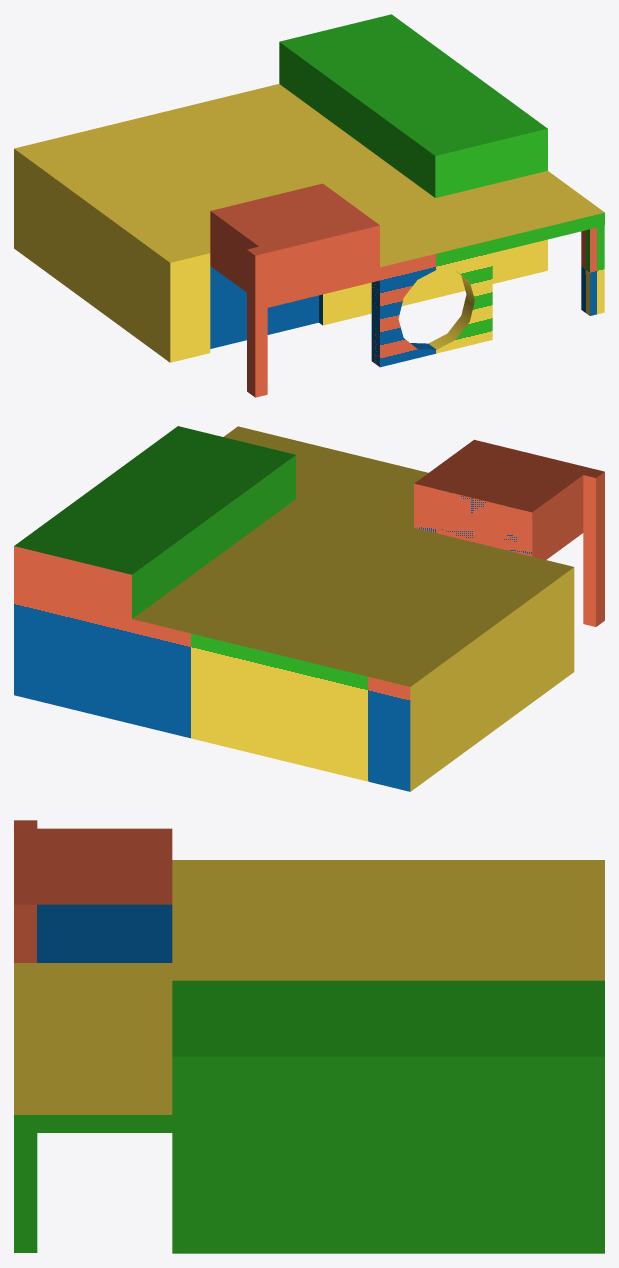
The model's file is casamae.FBX.
The picture shows the model from 3 angles, top to bottom: view 1: azimuth 30°, elevation 25°; view 2: azimuth 150°, elevation 25°; view 3: azimuth 270°, elevation 25°; orthographic projection. The views are drawn at different scales.
Visible parts, largest first — view 1: casaMae; view 2: casaMae; view 3: casaMae.
Part boxes in pixels (x1,y1,x2,y2): casaMae: (14,14,604,397); casaMae: (14,426,604,791); casaMae: (14,820,604,1253).
Size of the model in its own units: 561 by 202 by 549.
Materials: 1 (1 with a texture image).
